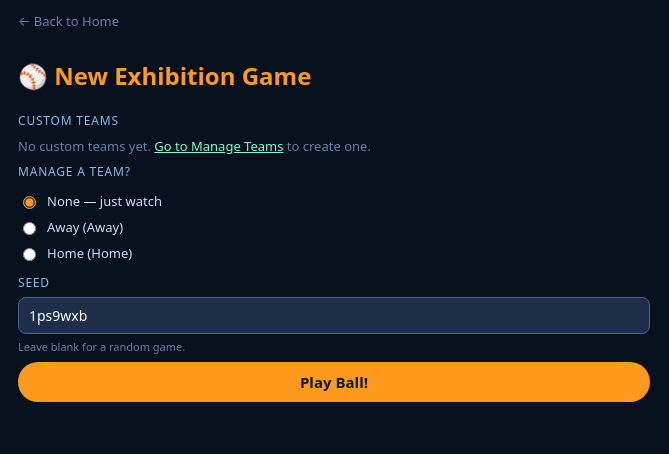
ExhibitionSetupPage › shows validation error message when no custom teams are available on submit
Click the button with test id "play-ball-button" at (334, 382), box [18,362,650,402]
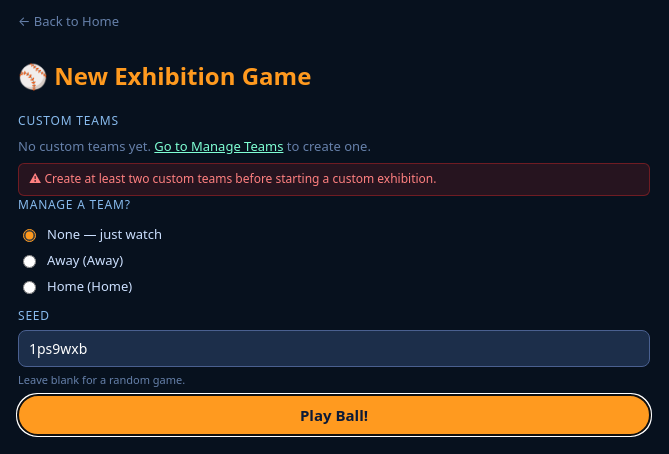
Check: the message "⚠ Create at least two custom teams before starting a custom exhibition." is shown, box [18,163,650,196]
Check: the message with test id "team-validation-error" shows "Create at least two custom teams", box [44,170,436,187]
